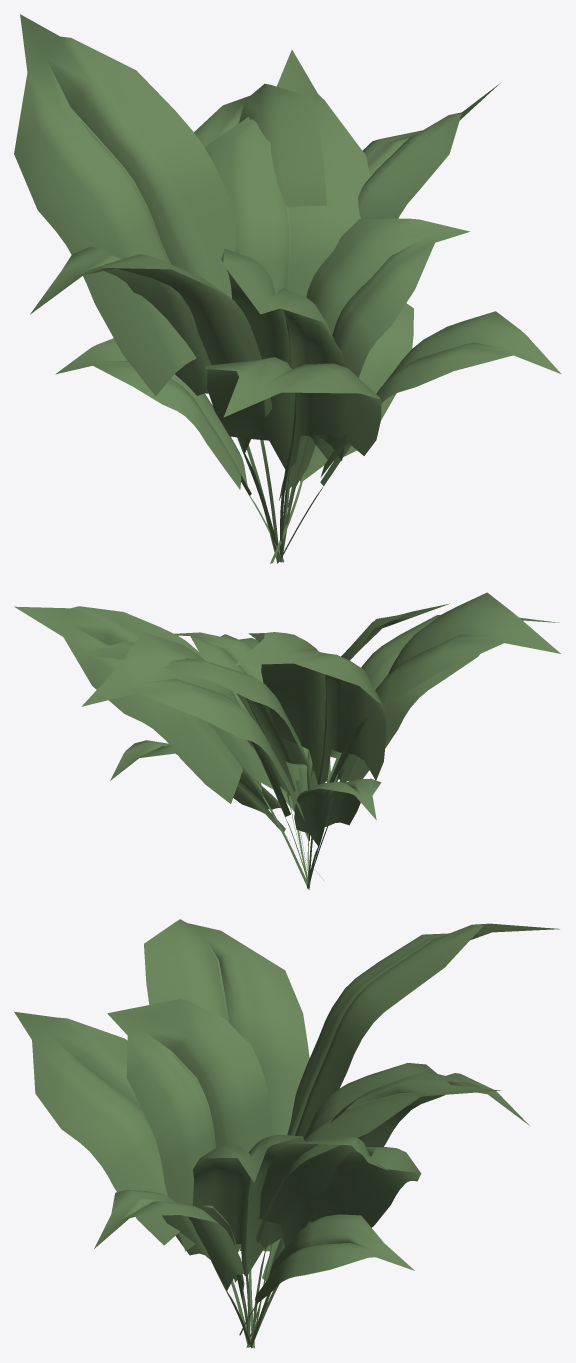
Rendered from grass_1.fbx.
3 renders of one model, top to bottom at view 1: azimuth 30°, elevation 25°; view 2: azimuth 150°, elevation 25°; view 3: azimuth 270°, elevation 25°, orthographic. The views are drawn at different scales.
Visible parts, largest first — view 1: Sc Forest ferns B 01.001; view 2: Sc Forest ferns B 01.001; view 3: Sc Forest ferns B 01.001.
Part boxes in pixels (x1,y1,x2,y2): Sc Forest ferns B 01.001: [14, 14, 561, 563]; Sc Forest ferns B 01.001: [14, 592, 560, 889]; Sc Forest ferns B 01.001: [14, 919, 559, 1348].
Size of the model in its own units: 49.56 by 35.92 by 45.56.
